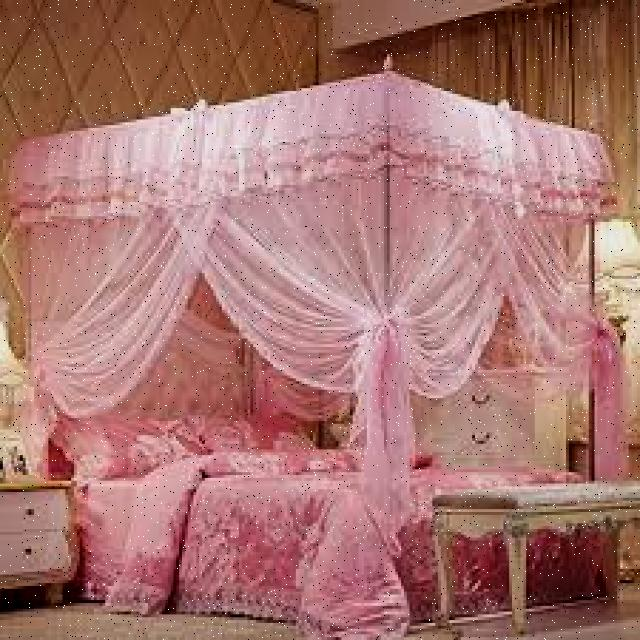bed: (65, 410, 588, 621)
